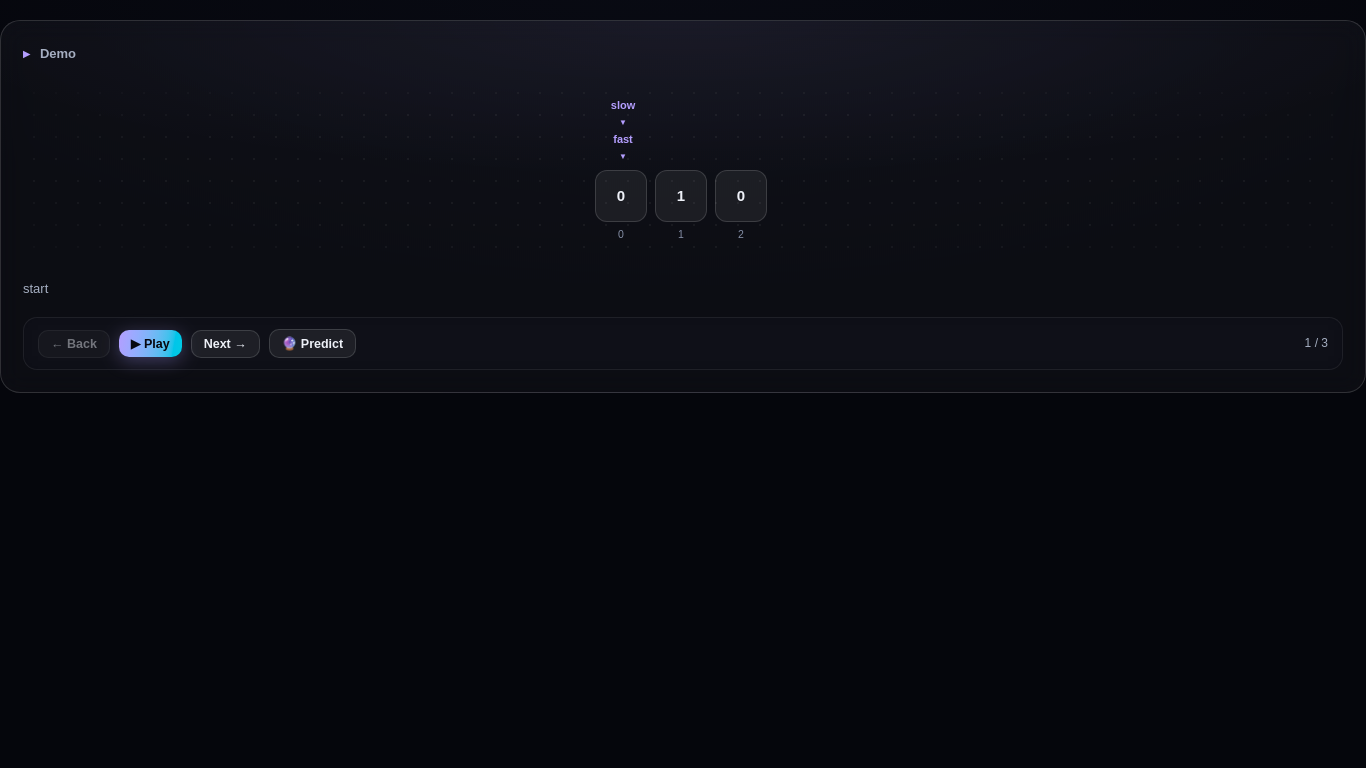
Test: (7) the score increments exactly once per question › counts a correct answer once
This screenshot has width=1366, height=768.
Click the button "🔮 Predict". click: (313, 344)
box: [269,329,356,358]
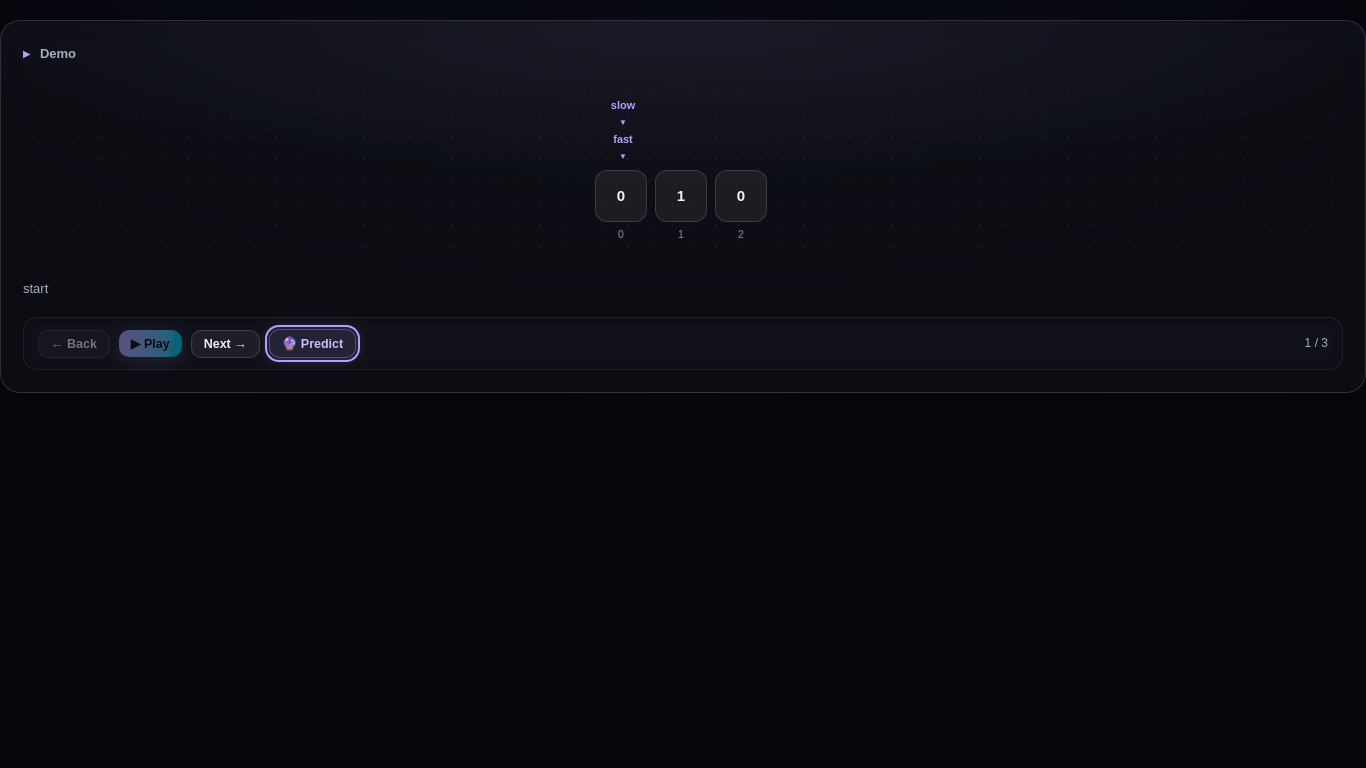
Click the button "Next →". click: (225, 344)
box: [191,330,260,358]
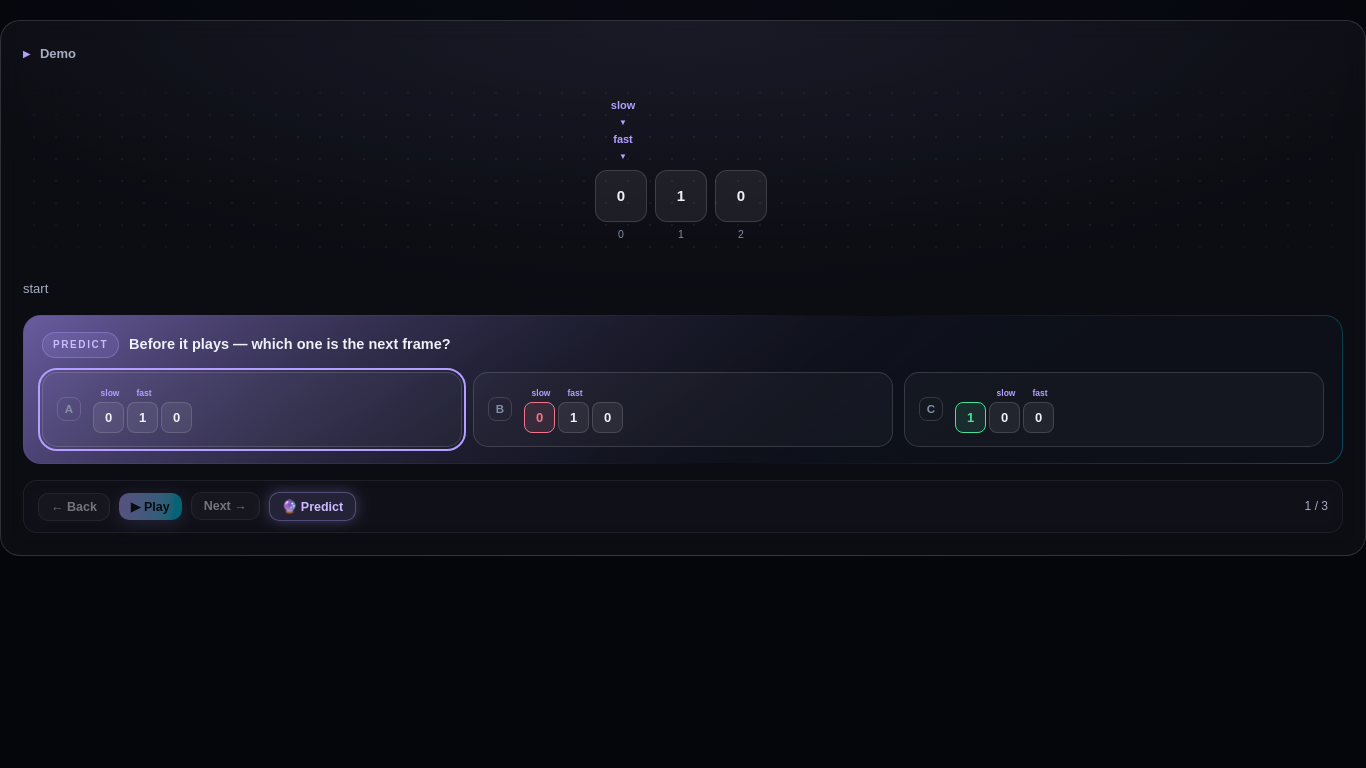
Click the button "B slow fast 0 1 0". click: (540, 417)
box: [473,372,893,446]
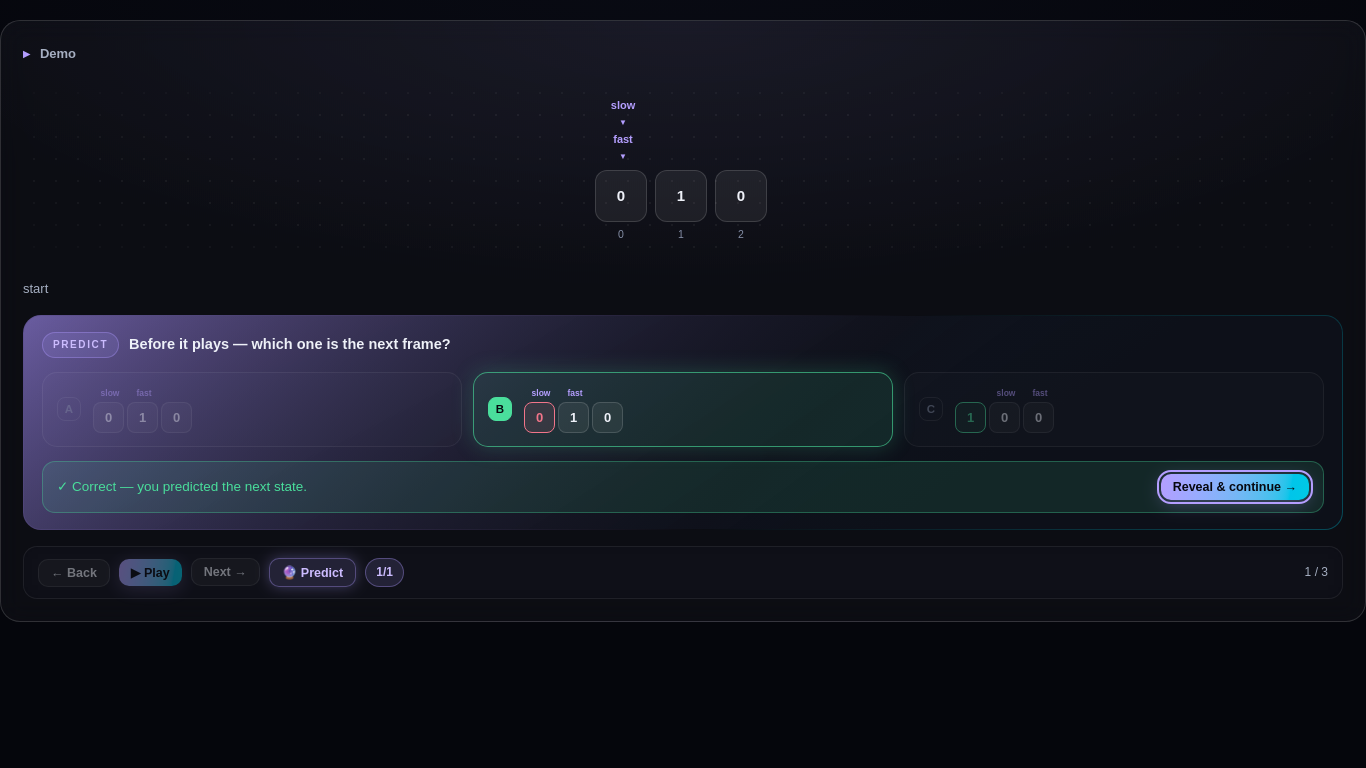
Result: the text "1/1" is shown at [365,558,404,586]
